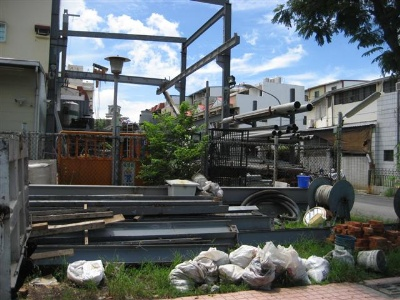box: (164, 179, 199, 195)
bucket: (356, 250, 386, 273), (334, 234, 357, 250), (297, 174, 311, 188)
plastic_bag: (272, 246, 307, 281), (168, 262, 203, 293), (67, 259, 104, 284), (242, 263, 274, 289), (303, 256, 334, 282), (229, 245, 257, 268), (219, 264, 243, 287)
